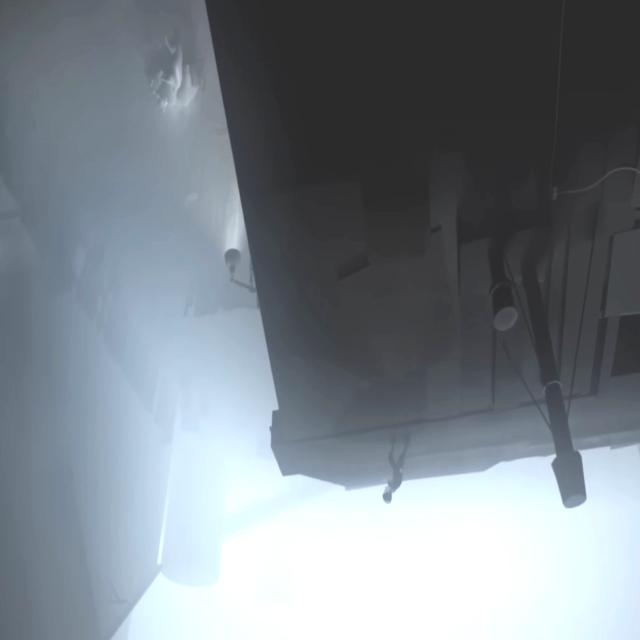boy: (382, 444, 407, 504)
